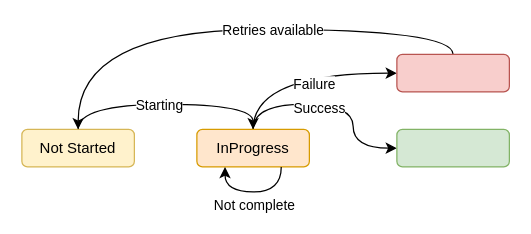
Some shapes in this 531 by 234 pixel diagram are drawn without their labels. The shapes that lost their labels are listed below. From the top down, each one's box as (x1, y1, x2, y2) in pixels, then its label:
(396, 53, 509, 92): Error
(396, 128, 509, 167): Done
